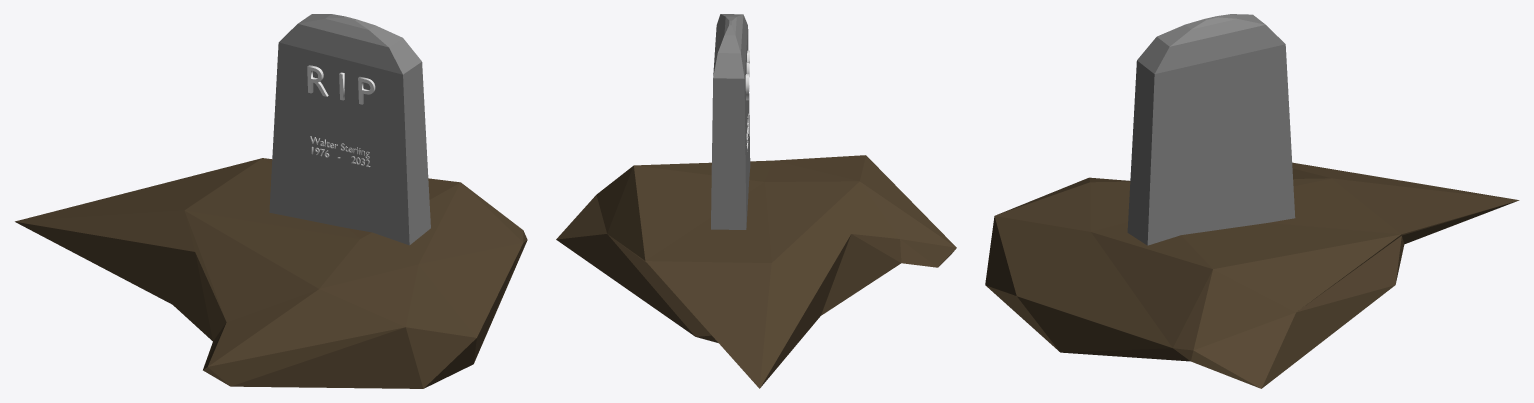
The model's file is walterTombstone.fbx.
3 renders of one model, left to right at view 1: azimuth 30°, elevation 25°; view 2: azimuth 150°, elevation 25°; view 3: azimuth 270°, elevation 25°, orthographic. The views are drawn at different scales.
Visible parts, largest first — view 1: WALTER, Text, Text.001; view 2: WALTER; view 3: WALTER.
Boxes of the visible parts, x1=… form: WALTER: x1=15, y1=14, x2=527, y2=388; Text: x1=307, y1=65, x2=375, y2=104; Text.001: x1=310, y1=136, x2=370, y2=167; WALTER: x1=556, y1=14, x2=956, y2=388; WALTER: x1=985, y1=14, x2=1519, y2=388.
Size of the model in its own units: 236 by 180 by 281.
